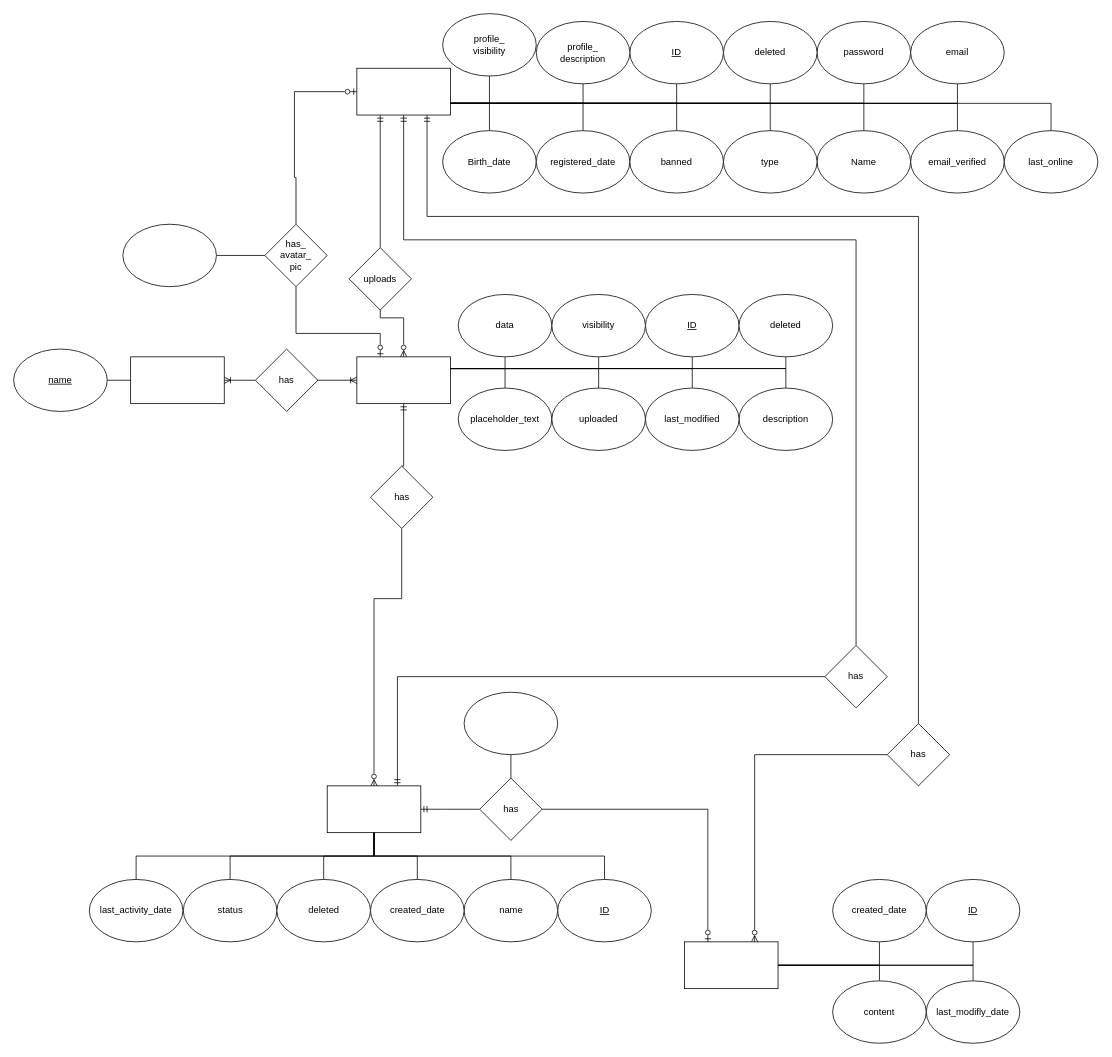
The diagram is 1112 pixels wide and 1057 high, and some of its shapes have lost their labels. The shapes that lost their labels are listed below. From the top down, each one's centre as x and y in pixels, then its label:
At [403,91]: "User".
At [169,255]: "default".
At [177,380]: "tag".
At [403,380]: "media".
At [510,723]: "count".
At [373,809]: "thread".
At [731,965]: "comment".
